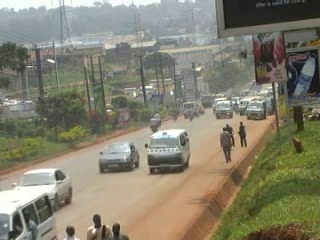Car: (10, 166, 74, 211), (97, 141, 140, 174)
Motorcycle: (148, 116, 158, 134), (152, 112, 163, 128), (185, 107, 195, 124), (170, 107, 180, 121)
